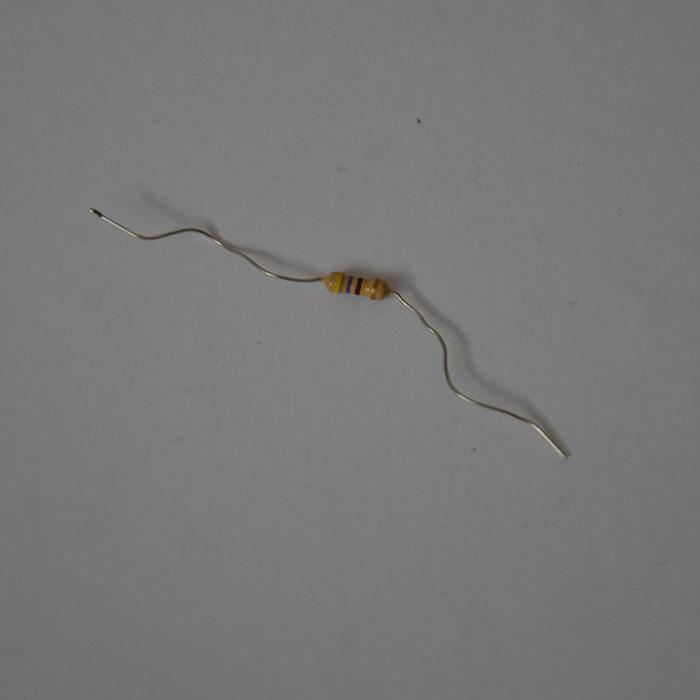resistor: (322, 270, 388, 299)
